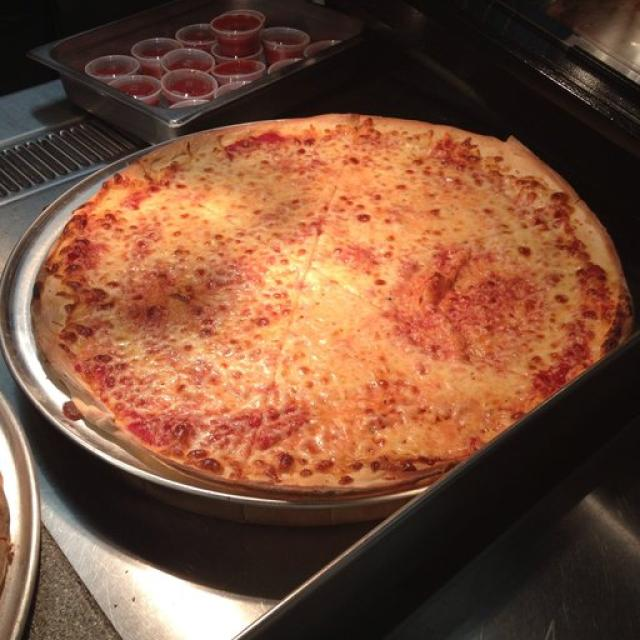Pizza: (42, 120, 632, 492), (0, 488, 14, 579)
